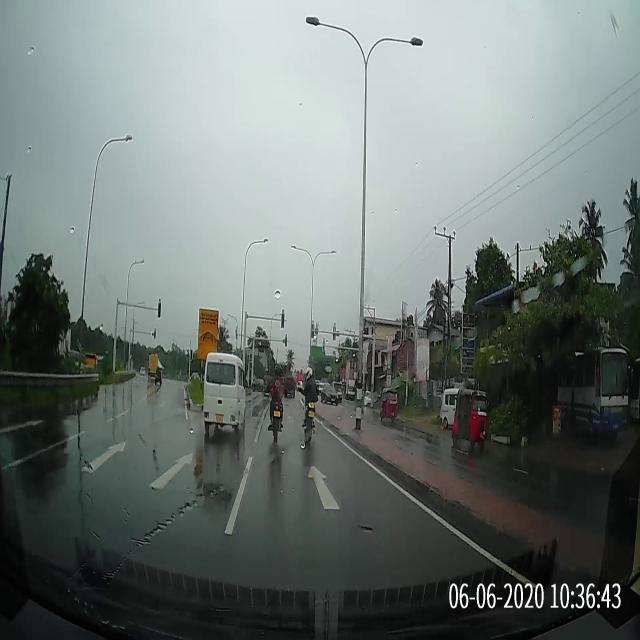forward: (218, 445, 431, 518)
